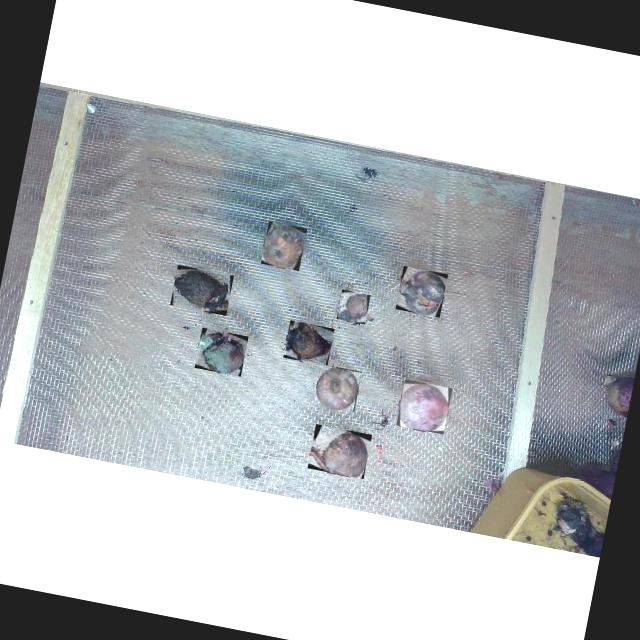rotten: (312, 431, 368, 477), (400, 384, 448, 431), (174, 270, 229, 311), (400, 271, 445, 314), (264, 224, 305, 268), (317, 367, 359, 409), (202, 332, 244, 373), (288, 322, 331, 360), (339, 293, 368, 322)
